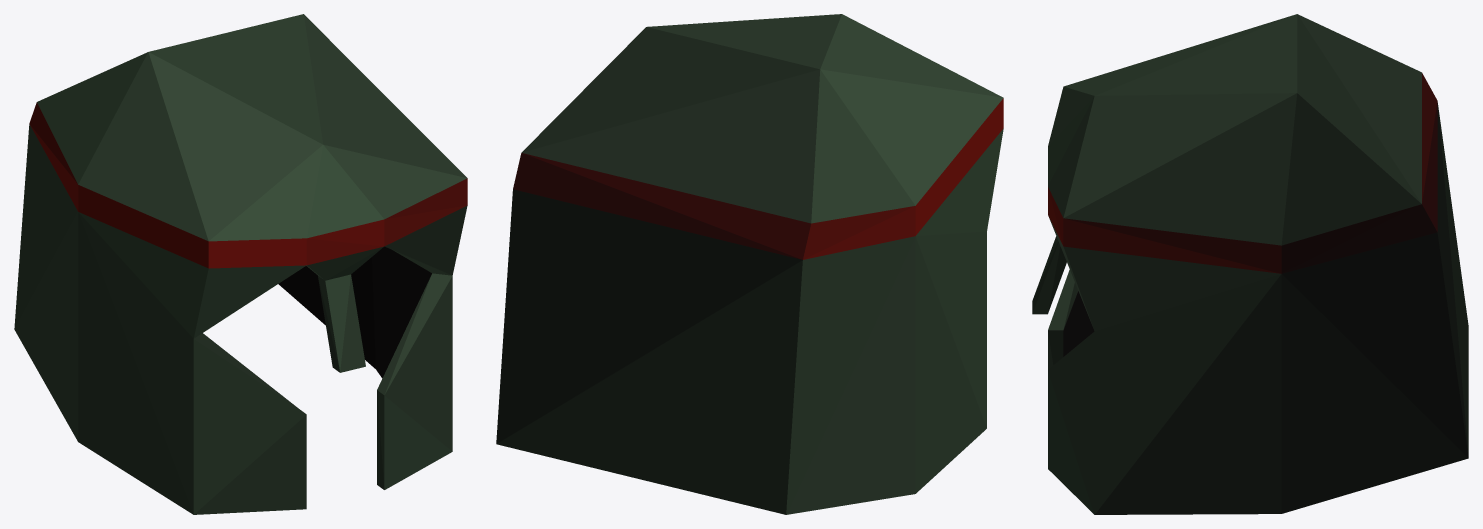
File: adamant-med-helm.obj
3 renders of one model, left to right at view 1: azimuth 30°, elevation 25°; view 2: azimuth 150°, elevation 25°; view 3: azimuth 270°, elevation 25°, orthographic. The views are drawn at different scales.
Parts seen in each view (by area): view 1: Item Adamant med helm 2026-09-24_18-17-43; view 2: Item Adamant med helm 2026-09-24_18-17-43; view 3: Item Adamant med helm 2026-09-24_18-17-43.
Boxes of the visible parts, x1,y1,x2,y2 form: Item Adamant med helm 2026-09-24_18-17-43: (14,14,467,514); Item Adamant med helm 2026-09-24_18-17-43: (496,14,1003,514); Item Adamant med helm 2026-09-24_18-17-43: (1032,14,1468,514).
Size of the model in its own units: 24 by 28 by 28.
